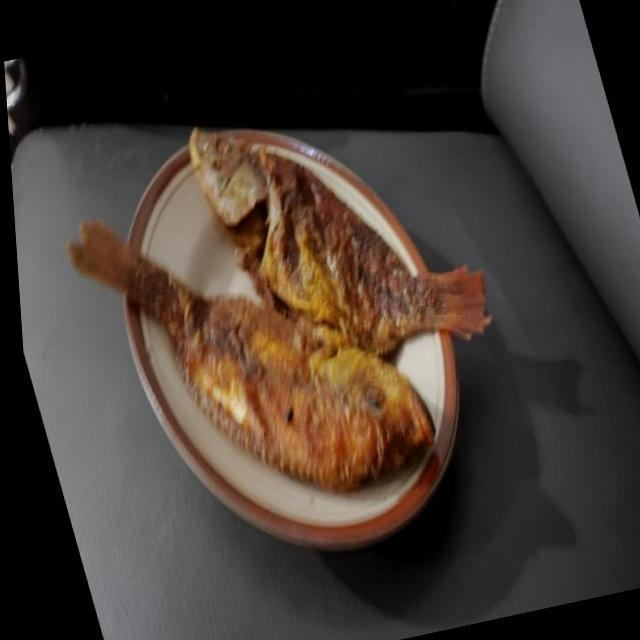ikan_mujair: (68, 222, 434, 490), (188, 128, 491, 354)
